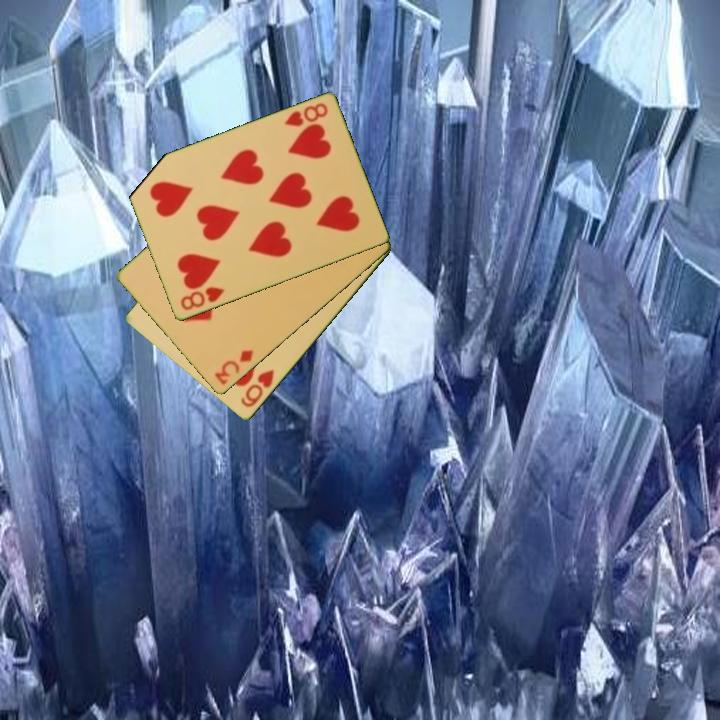3d: (211, 346, 256, 388)
6h: (237, 366, 277, 411)
8h: (177, 283, 227, 314), (281, 100, 331, 130)
